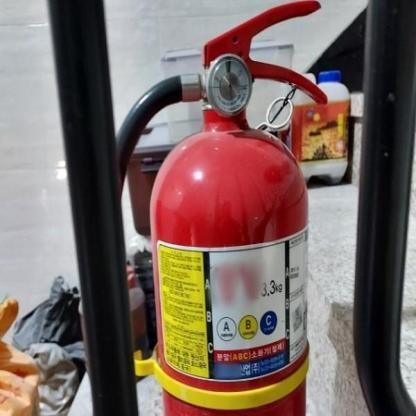Fire Extinguisher: (111, 0, 351, 416)
